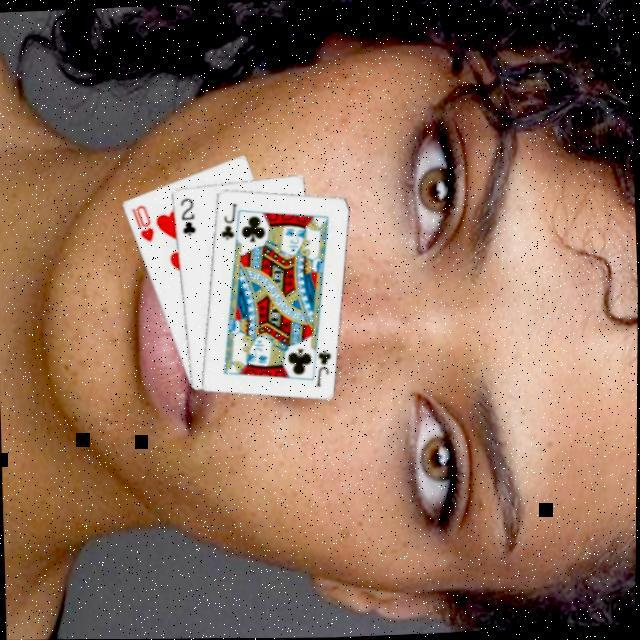10H: (130, 200, 159, 244)
2C: (179, 192, 200, 236)
JC: (218, 197, 241, 241), (313, 345, 336, 388)
